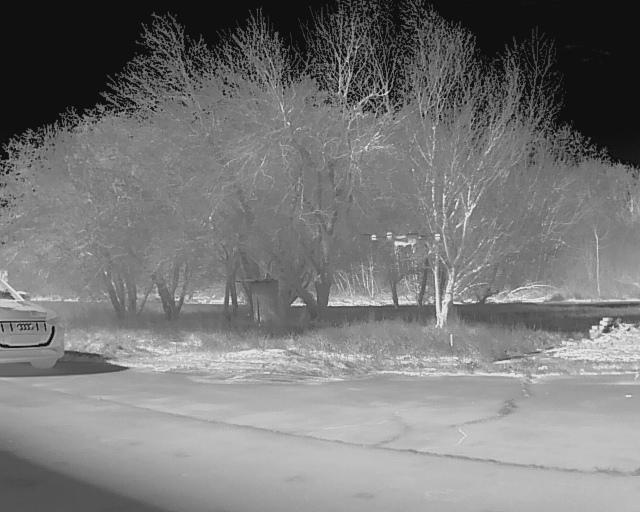drone: (350, 211, 451, 271)
